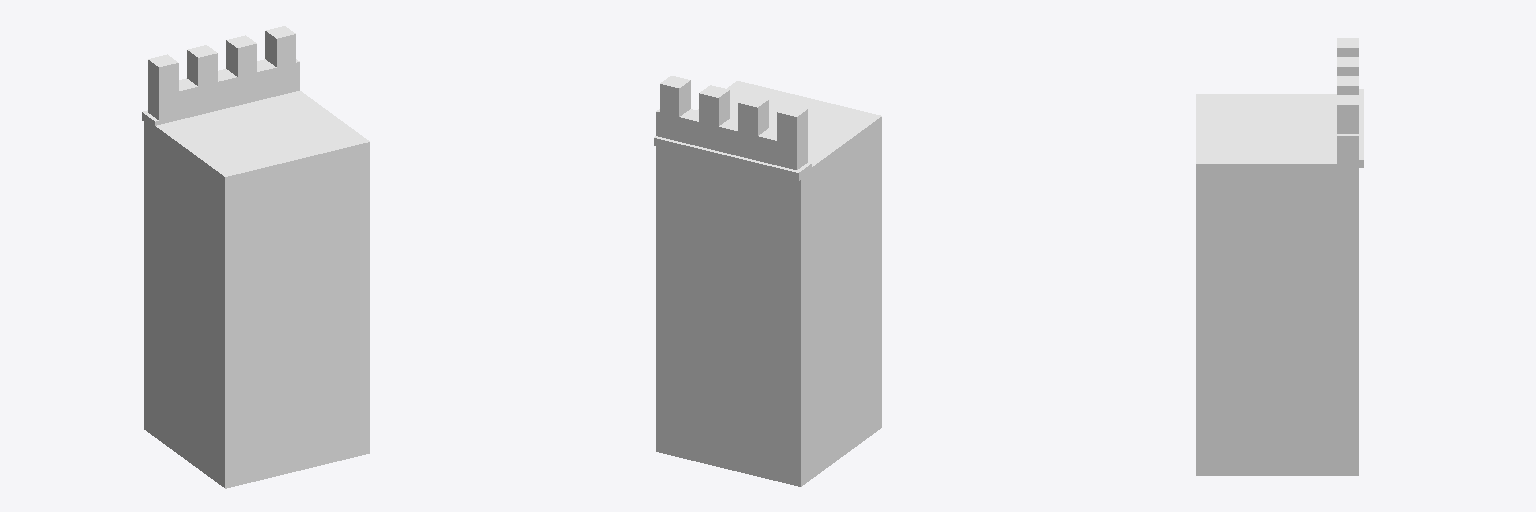
Rendered from grassy_field-10.obj.
3 renders of one model, left to right at view 1: azimuth 30°, elevation 25°; view 2: azimuth 150°, elevation 25°; view 3: azimuth 270°, elevation 25°, orthographic.
Parts seen in each view (by area): view 1: object 1; view 2: object 1; view 3: object 1.
Part boxes in pixels (x1,y1,x2,y2): object 1: (142,26,369,488); object 1: (654,76,881,486); object 1: (1196,38,1363,475).
Bounding box in the file's own units: 3.7 × 9 × 3.7.